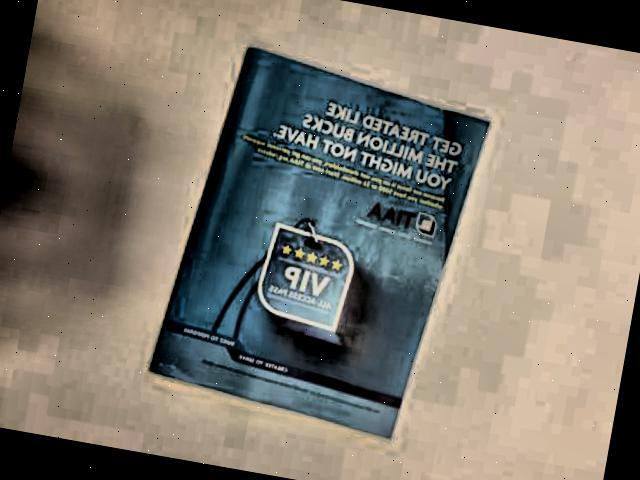Paper: (126, 14, 513, 466)
